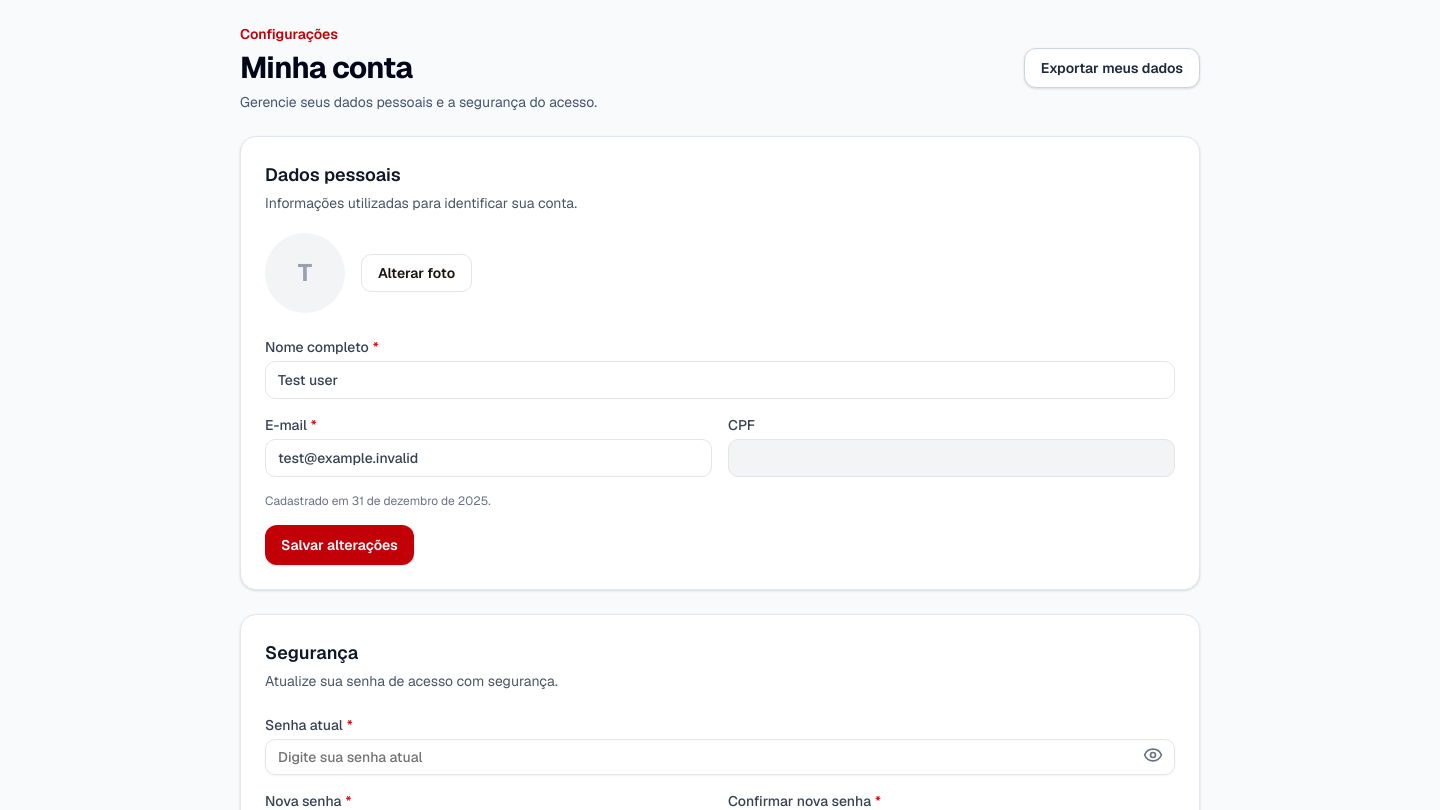
Test: Personal data export › shows the translated error and allows retrying when the export fails
Click the button "Exportar meus dados" at (1112, 68), box [1024,48,1200,88]
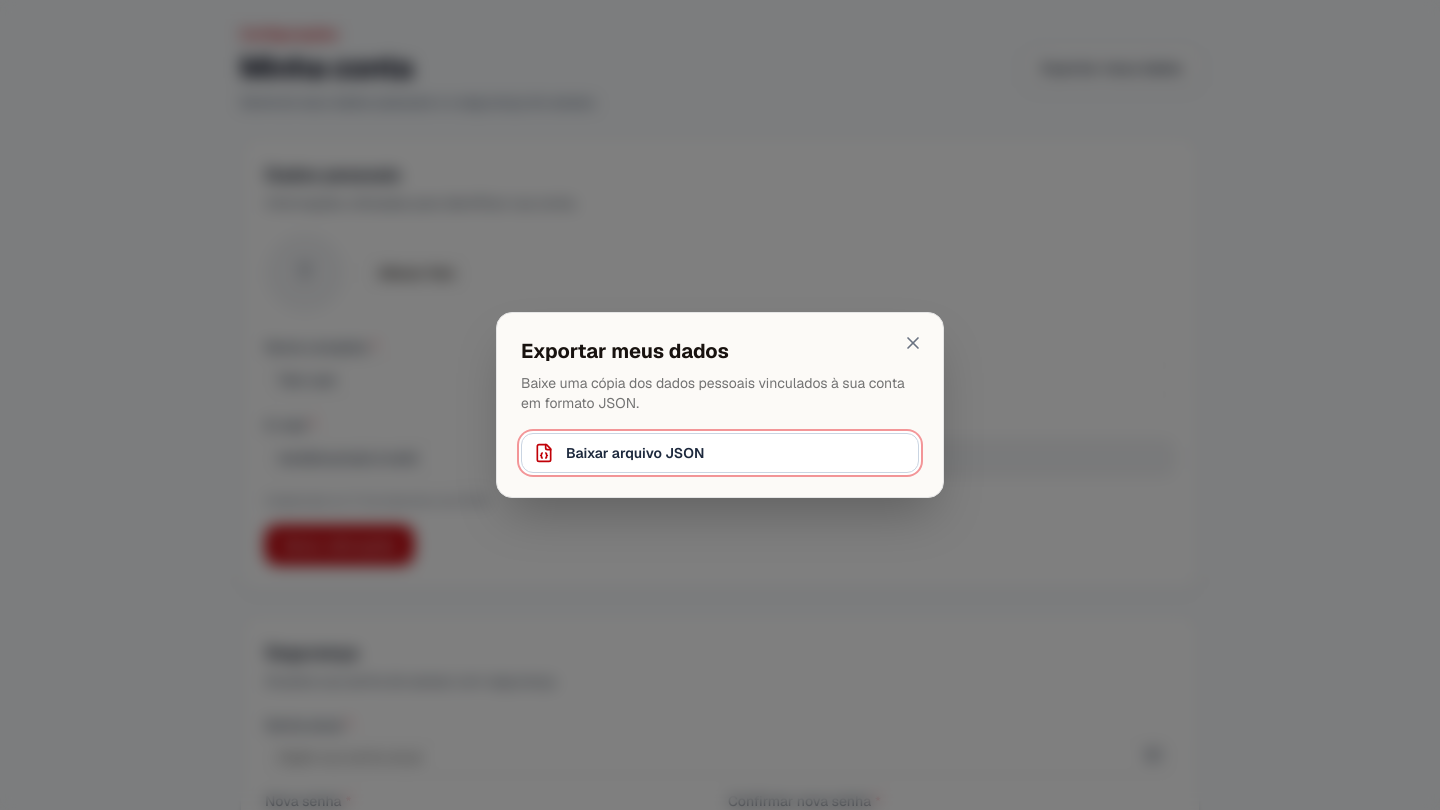
Click the button "Baixar arquivo JSON" at (635, 453), box [521,433,919,473]
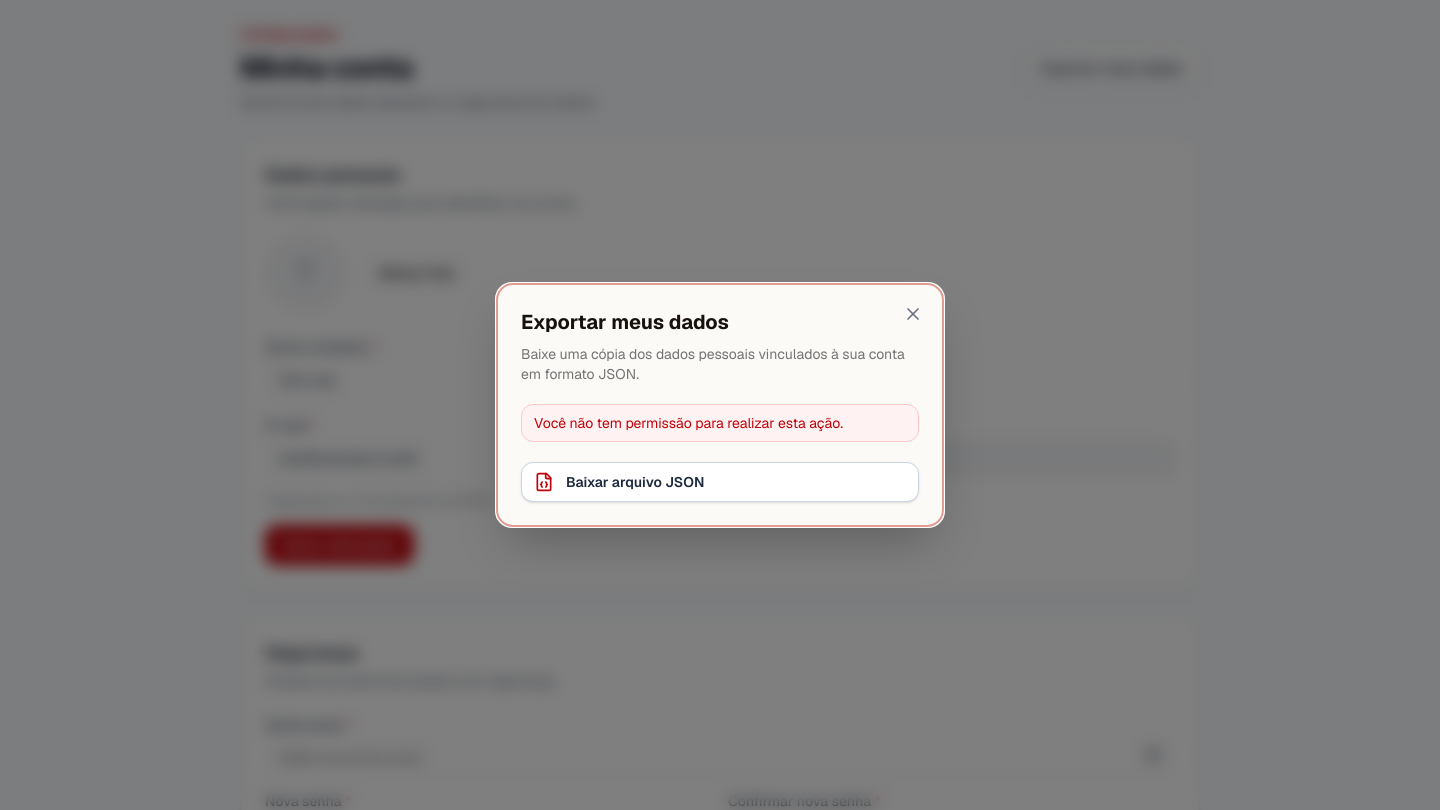
Expected: the button "Baixar arquivo JSON" is enabled, [521,462,919,502]
Expected: the message "Você não tem permissão para realizar esta ação." is shown, [521,404,919,442]
